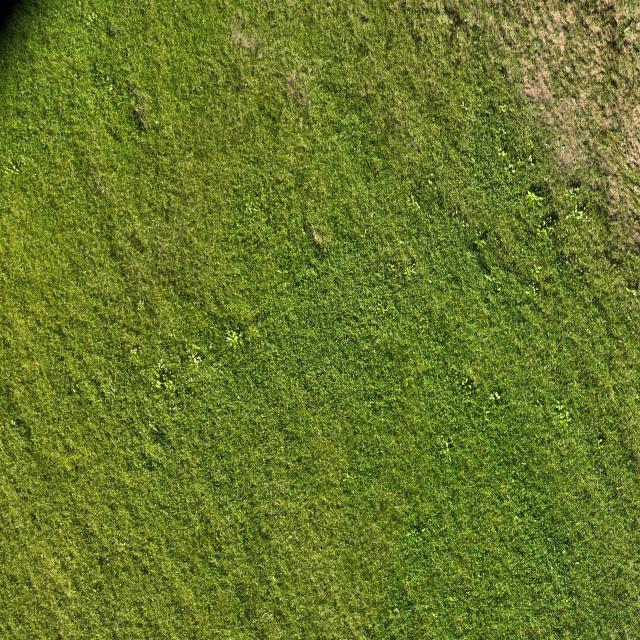rumex: (543, 394, 576, 436), (146, 357, 176, 399), (556, 177, 588, 210), (530, 214, 561, 247), (559, 207, 592, 233), (0, 148, 24, 180), (522, 186, 548, 213), (437, 431, 461, 460), (183, 349, 206, 378), (395, 261, 424, 284), (222, 326, 248, 351), (238, 195, 262, 222), (82, 8, 103, 33)
